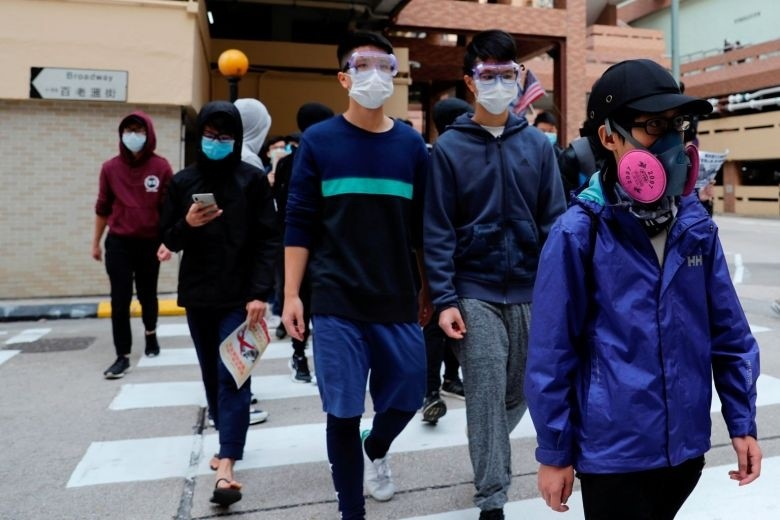face_with_mask: (342, 33, 400, 111), (466, 42, 523, 120), (197, 100, 243, 163), (117, 110, 157, 163)
